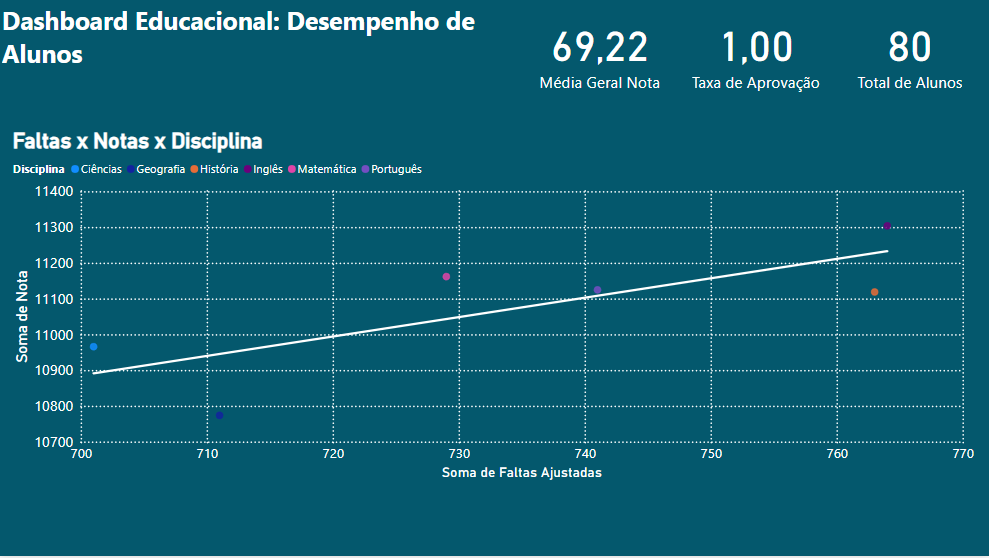

The page's visual inventory and layout, read from the dashboard file:
{"tool":"powerbi","page":{"name":"Página 2","canvas":[1280,720],"ordinal":1},"visuals":[{"type":"card","fields":{"Values":["Medidas.Média Geral"]},"box":[676.7,0,201.2,134.1],"z":0},{"type":"card","fields":{"Values":["Medidas.Taxa de Aprovação"]},"box":[877.9,0,201.2,134.1],"z":1000},{"type":"card","fields":{"Values":["Medidas.Total de Alunos"]},"box":[1079.1,0,199.2,134.1],"z":2000},{"type":"scatterChart","title":"Faltas x Notas x Disciplina","fields":{"X":["Sum(Dashboard_Educacional_PowerBI.Faltas Ajustadas)"],"Y":["Sum(Dashboard_Educacional_PowerBI.Nota)"],"Series":["Dashboard_Educacional_PowerBI.Disciplina"]},"box":[14,166,1252,460],"z":3000},{"type":"textbox","box":[0,0,640,123.4],"z":3001}]}

Visuals, with their boxes in screenshot pixels (x1, y1, x2, y2), scaled from the page's 1280x720 canvas onto the 989x558 screenshot:
card - Medidas.Média Geral: 523:0:678:104
card - Medidas.Taxa de Aprovação: 678:0:834:104
card - Medidas.Total de Alunos: 834:0:988:104
"Faltas x Notas x Disciplina" scatterChart: 11:129:978:485
textbox: 0:0:494:96
